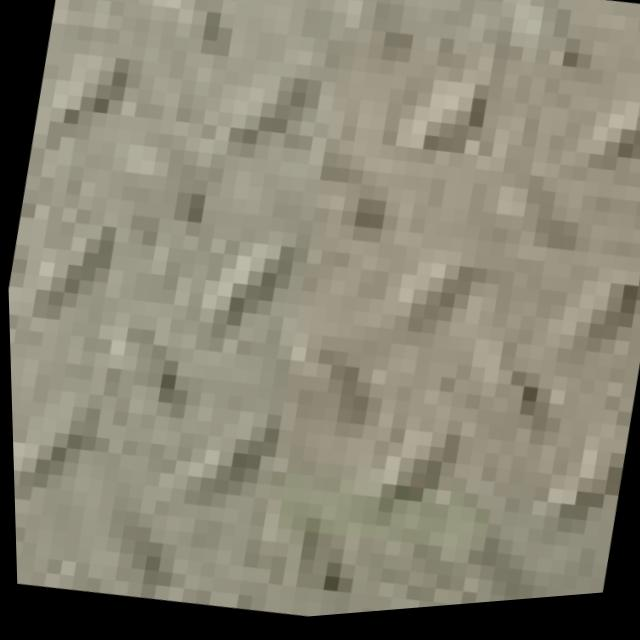metal-plates: (8, 1, 640, 622)
